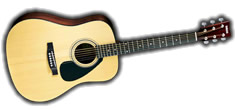guitar: (3, 9, 235, 105)
